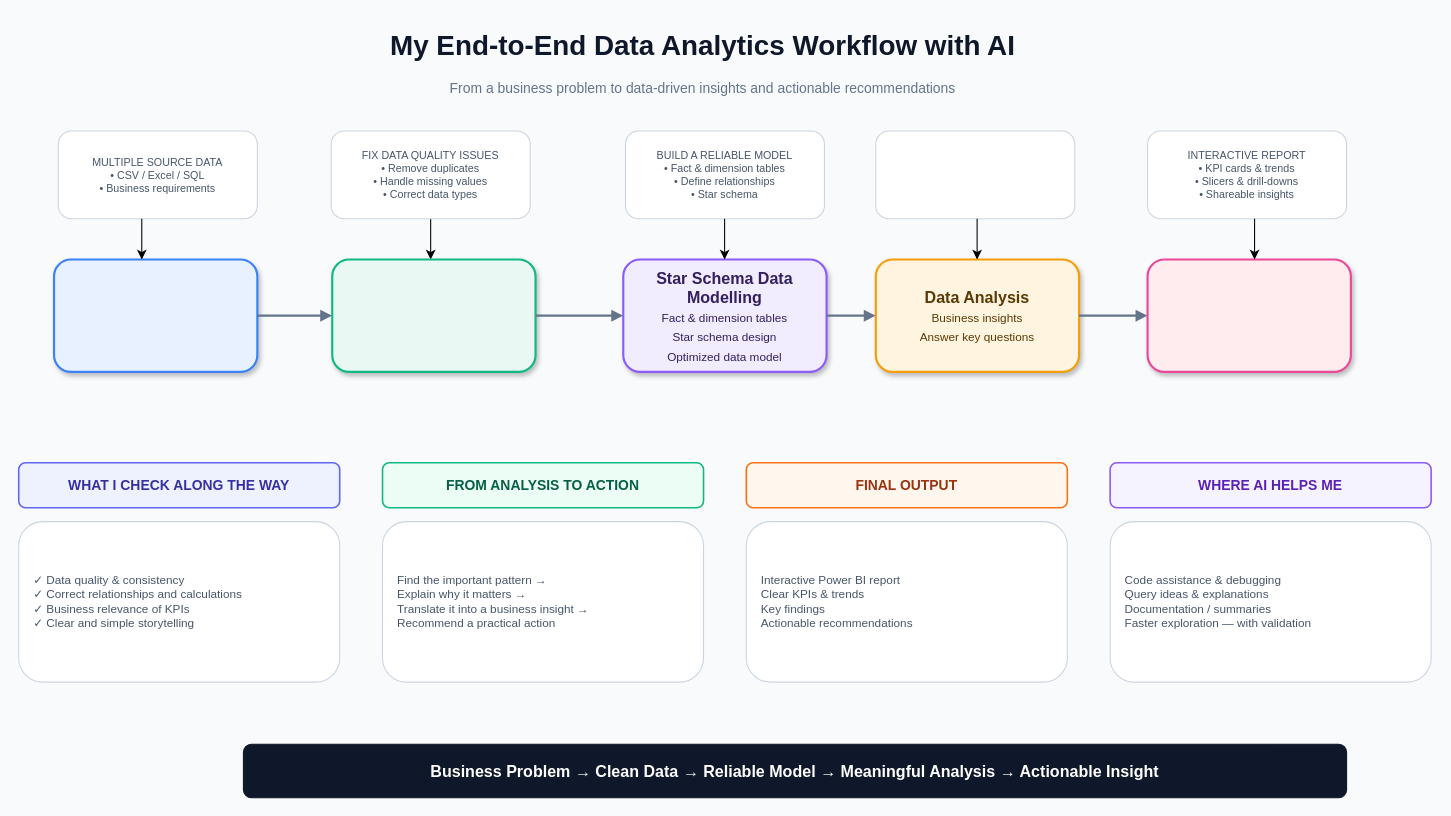
The diagram is 1451 pixels wide and 816 high, and some of its shapes have lost their labels. The centre of each missing label's shape, as x and y in pixels:
ANSWER BUSINESS QUESTIONS • Calculate KPIs • Identify trends • Generate insights: (975,174)
Data Cleaning Fix data quality issues Remove duplicates Create clean dataset: (434,317)
Raw Data Multiple Source File Messy / Inconsistent Data: (156,317)
Visualisation Interactive dashboard Clear visual insights Shareable reports: (1250,317)
